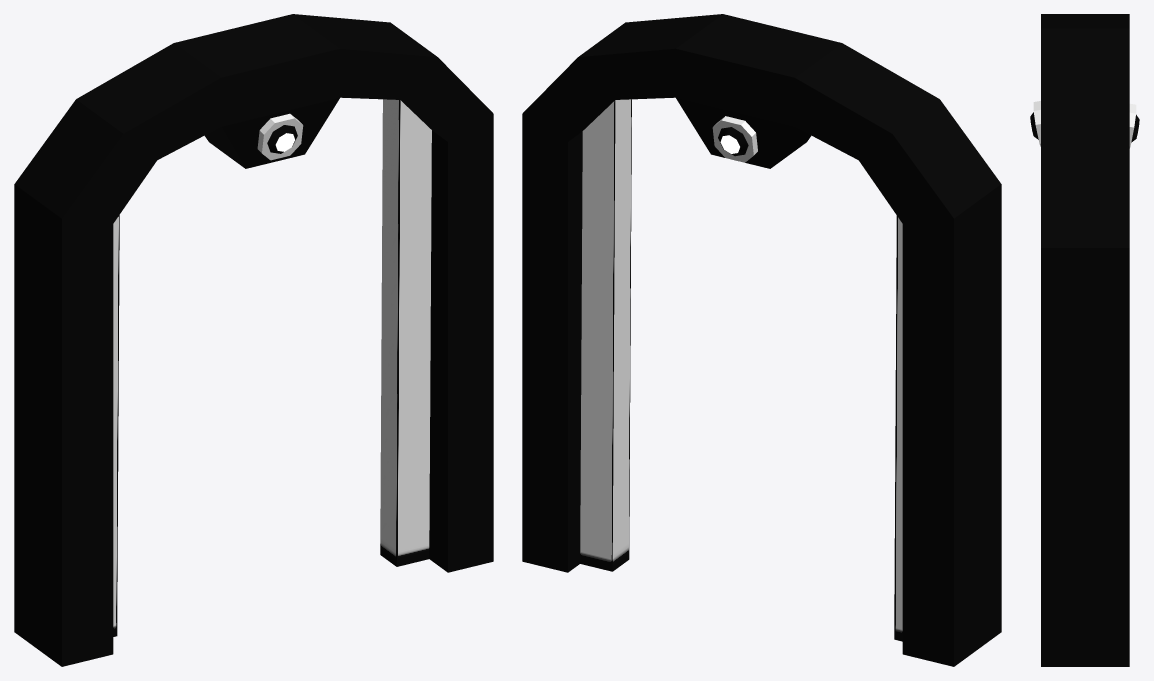
File: door.glb
The picture shows the model from 3 angles, left to right: view 1: azimuth 30°, elevation 25°; view 2: azimuth 150°, elevation 25°; view 3: azimuth 270°, elevation 25°; orthographic projection. The views are drawn at different scales.
Parts seen in each view (by area): view 1: Door; view 2: Door; view 3: Door.
Boxes of the visible parts, x1,y1,x2,y2 form: Door: [14, 14, 493, 666]; Door: [522, 14, 1001, 666]; Door: [1030, 14, 1139, 666].
Size of the model in its own units: 4.83 by 5.89 by 1.14.
Materials: 3 (1 with a texture image).
